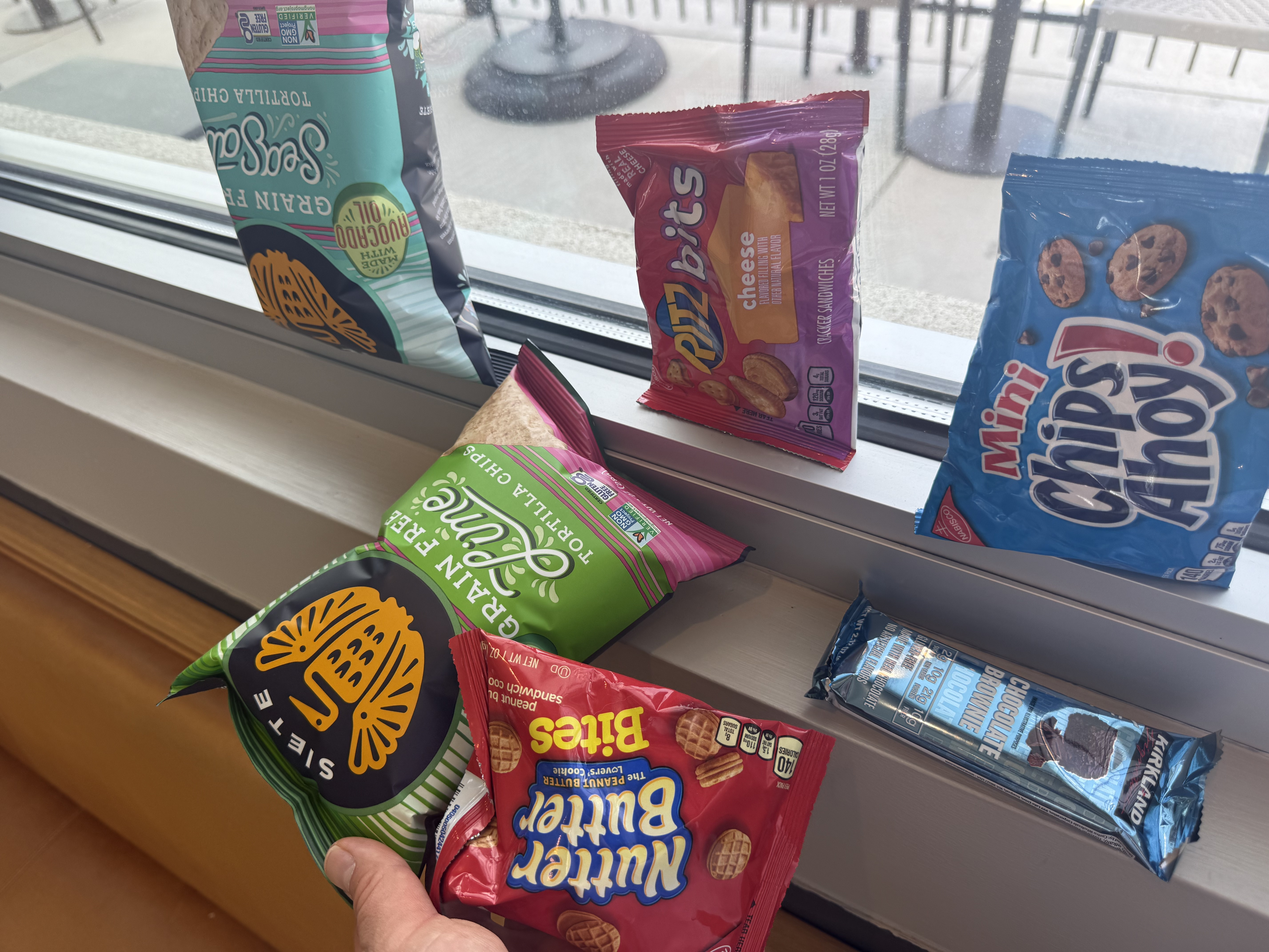chips_ahoy: (942, 152, 1269, 574)
chocolate_brownie: (843, 596, 1262, 710)
lime: (531, 367, 738, 815)
nutter_butter: (481, 656, 800, 906)
ritz_cheese: (619, 124, 861, 447)
sea_salt: (194, 6, 473, 376)
